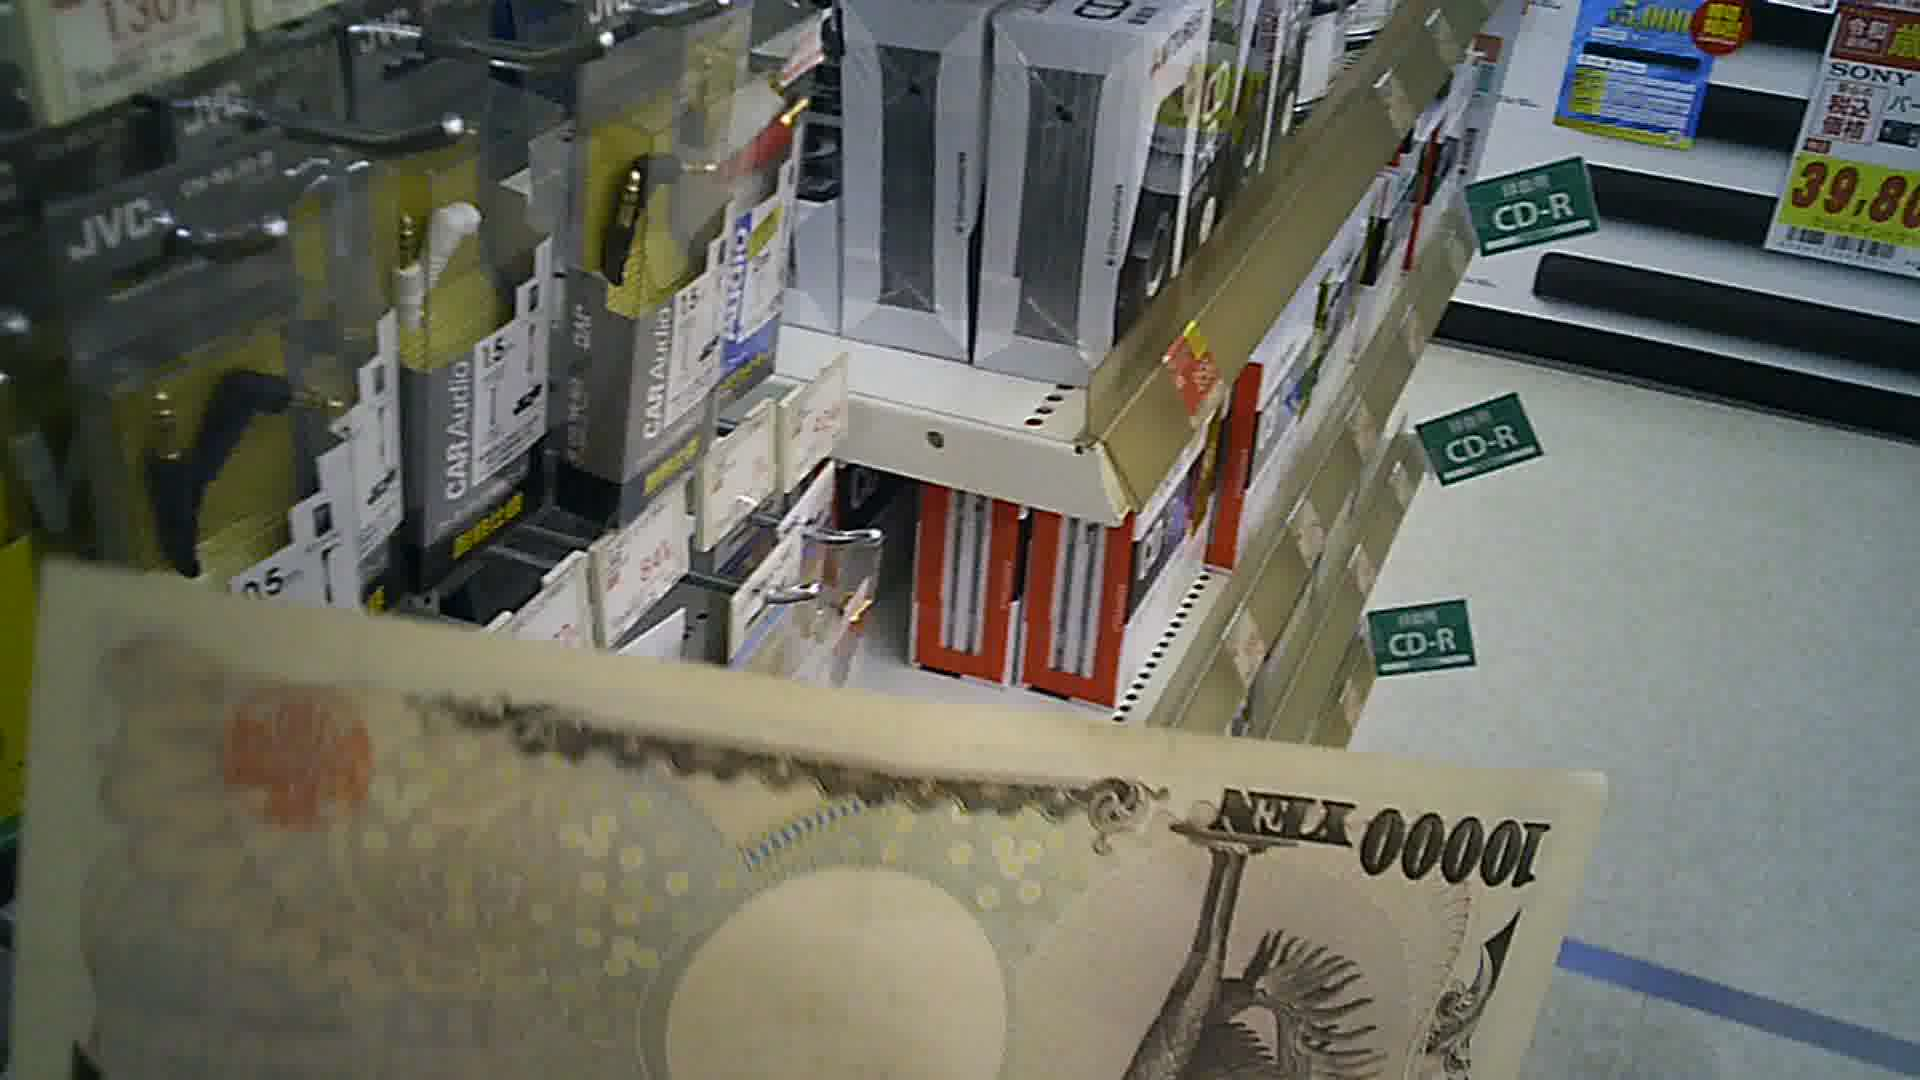10,000 Yen: (24, 541, 1617, 1068)
